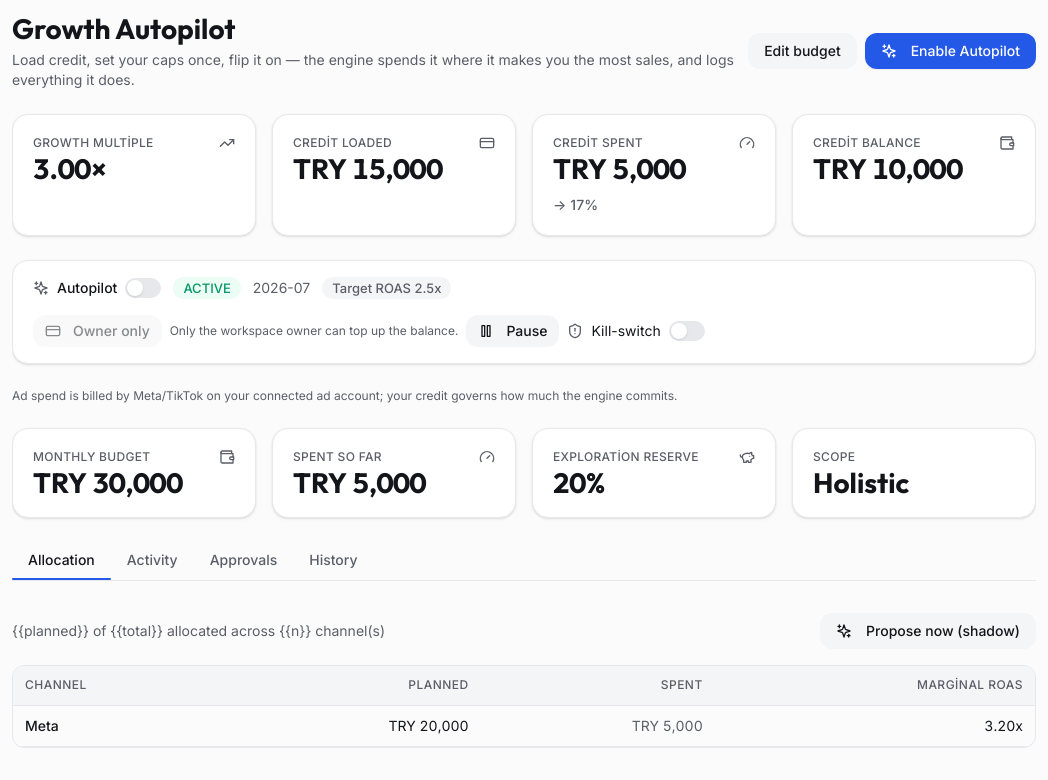
it: BudgetAutopilotPage › Approvals — MCP vs. Budget Reallocation routing › renders the MCP tool name and its arguments so the operator sees what they are approving
Click the tab "Approvals": coordinates (243, 561) [194,542,293,580]
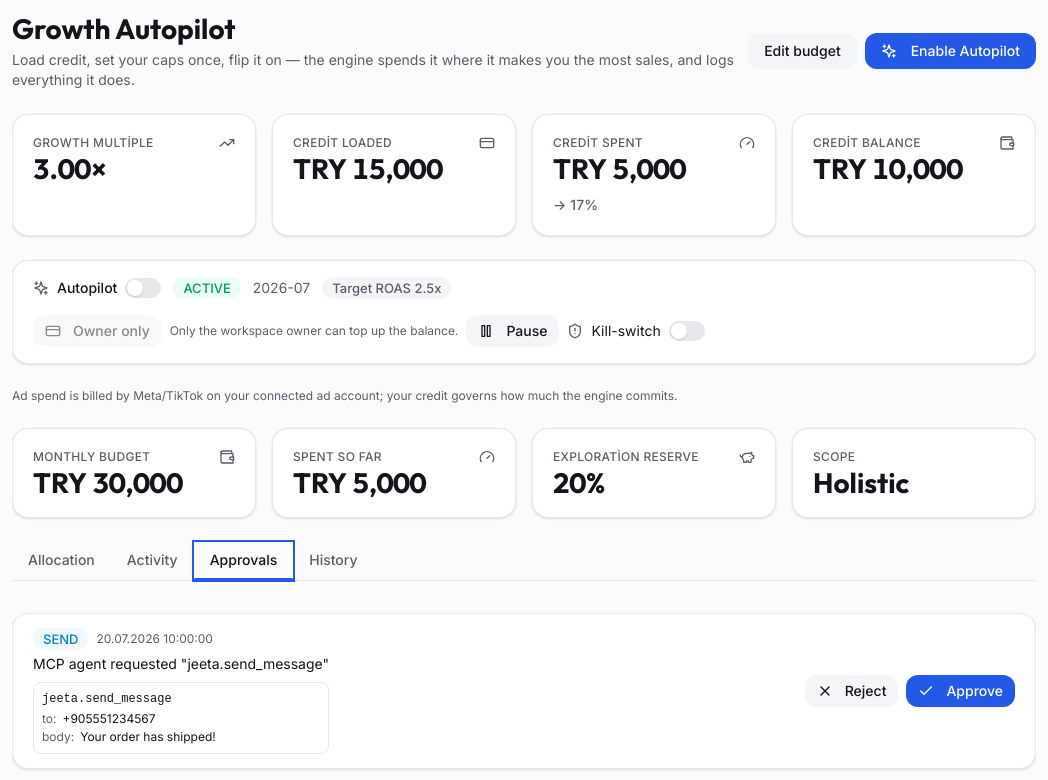
Expected: the text "jeeta.send_message" is shown, [42,692,172,706]
Expected: the text "+905551234567" is shown, [62,711,156,727]
Expected: the text "Your order has shipped!" is shown, [80,729,216,745]
